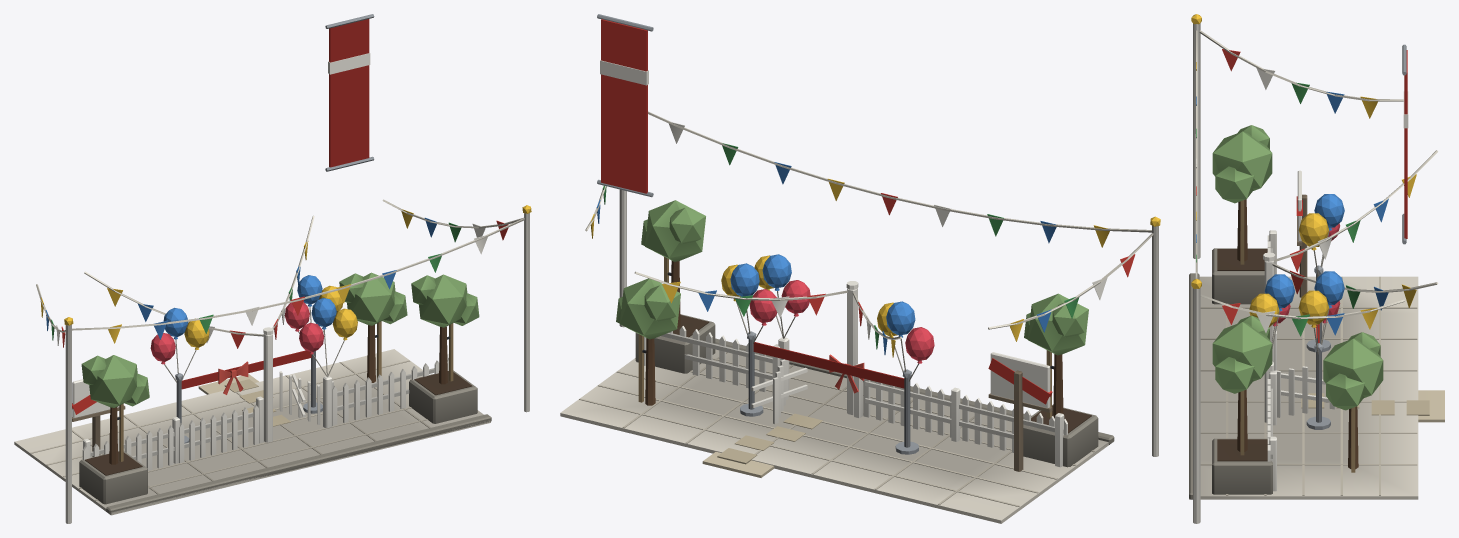
File: finished-dressing.glb
3 renders of one model, left to right at view 1: azimuth 30°, elevation 25°; view 2: azimuth 150°, elevation 25°; view 3: azimuth 270°, elevation 25°, orthographic. The views are drawn at different scales.
Parts seen in each view (by area): view 1: TownDressing, VillageDressing; view 2: TownDressing, VillageDressing; view 3: TownDressing, VillageDressing.
Boxes of the visible parts, x1,y1,x2,y2 form: TownDressing: [14, 14, 531, 523]; VillageDressing: [72, 215, 448, 470]; TownDressing: [560, 14, 1160, 523]; VillageDressing: [616, 254, 1067, 477]; TownDressing: [1189, 14, 1418, 523]; VillageDressing: [1249, 150, 1444, 491].
Bounding box in the file's own units: 8.34 × 5.96 × 3.35.
